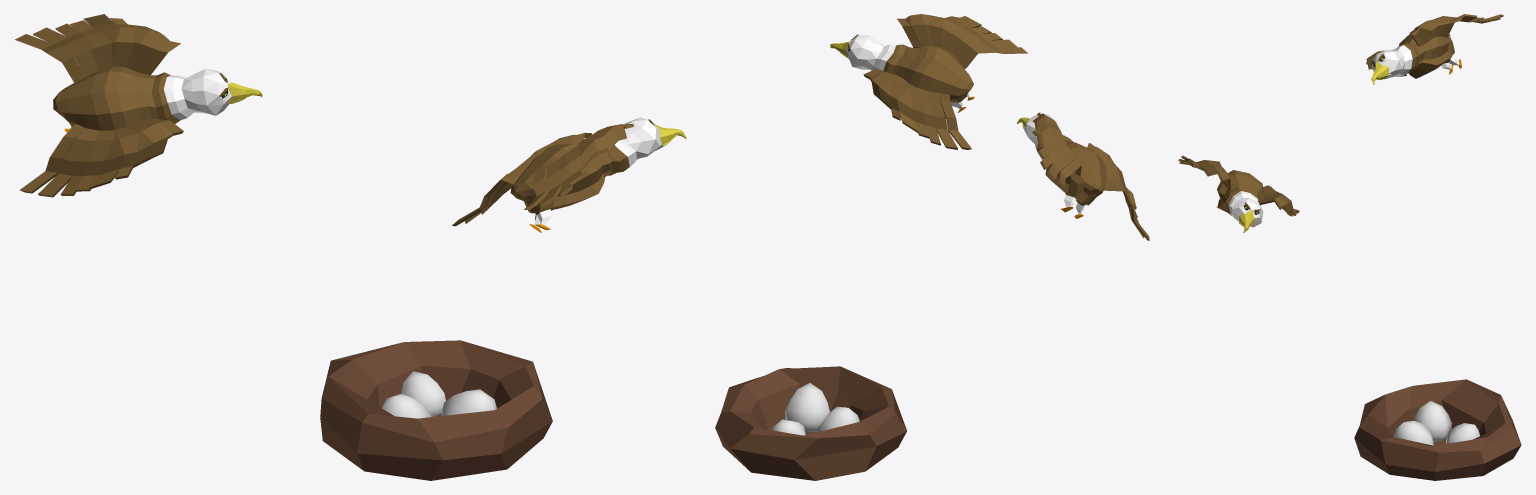
File: adler_und_Nest.fbx
3 renders of one model, left to right at view 1: azimuth 30°, elevation 25°; view 2: azimuth 150°, elevation 25°; view 3: azimuth 270°, elevation 25°, orthographic. The views are drawn at different scales.
Parts seen in each view (by area): view 1: Vogelnest, Adler 1, Adler 2; view 2: Vogelnest, Adler 2, Adler 1; view 3: Vogelnest, Adler 1, Adler 2.
Boxes of the visible parts, x1,y1,x2,y2 form: Vogelnest: [320, 340, 552, 480]; Adler 1: [15, 14, 262, 197]; Adler 2: [452, 117, 686, 232]; Vogelnest: [715, 366, 906, 480]; Adler 2: [830, 14, 1027, 149]; Adler 1: [1017, 112, 1149, 240]; Vogelnest: [1354, 379, 1521, 480]; Adler 1: [1366, 14, 1503, 84]; Adler 2: [1178, 155, 1299, 232].
Bounding box in the file's own units: 6.87 × 5.98 × 5.51.
